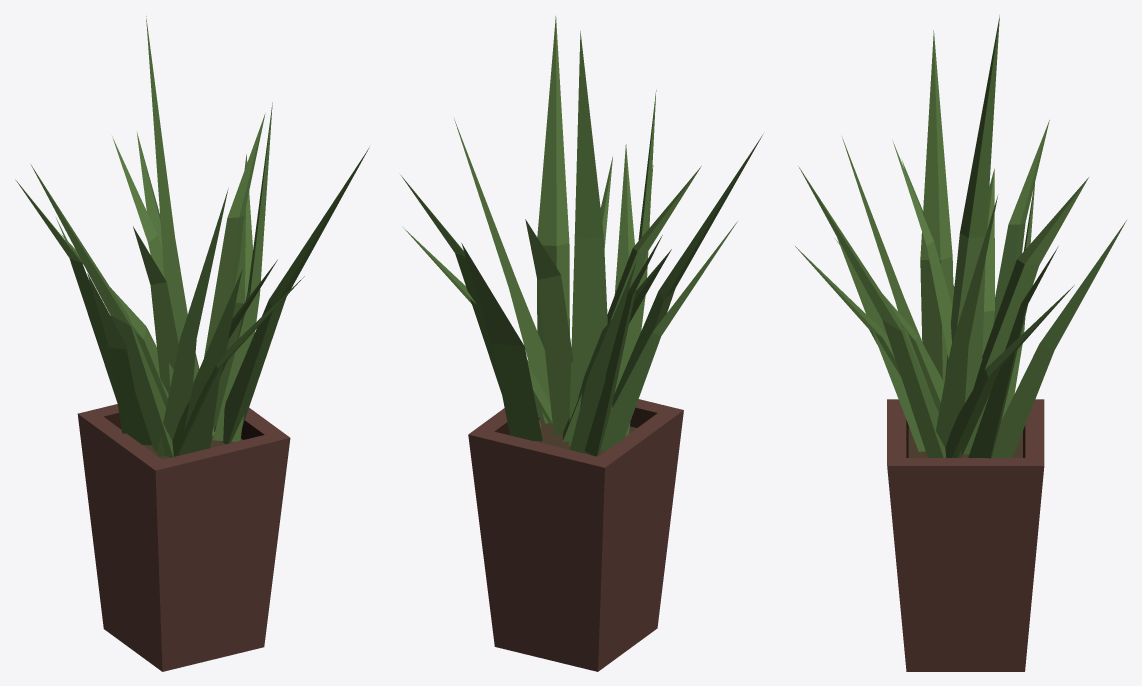
The model's file is ChurchPlant1.glb.
3 views of the same model, side by side, from view 1: azimuth 30°, elevation 25°; view 2: azimuth 150°, elevation 25°; view 3: azimuth 270°, elevation 25° (orthographic).
Parts seen in each view (by area): view 1: ChurchPlant1; view 2: ChurchPlant1; view 3: ChurchPlant1.
Part boxes in pixels (box(x1,y1,x2,y2)): ChurchPlant1: box(15, 16, 369, 671); ChurchPlant1: box(401, 16, 762, 671); ChurchPlant1: box(795, 15, 1126, 671).
Size of the model in its own units: 0.8845 by 1.75 by 0.8516.
Materials: 1 (1 with a texture image).
